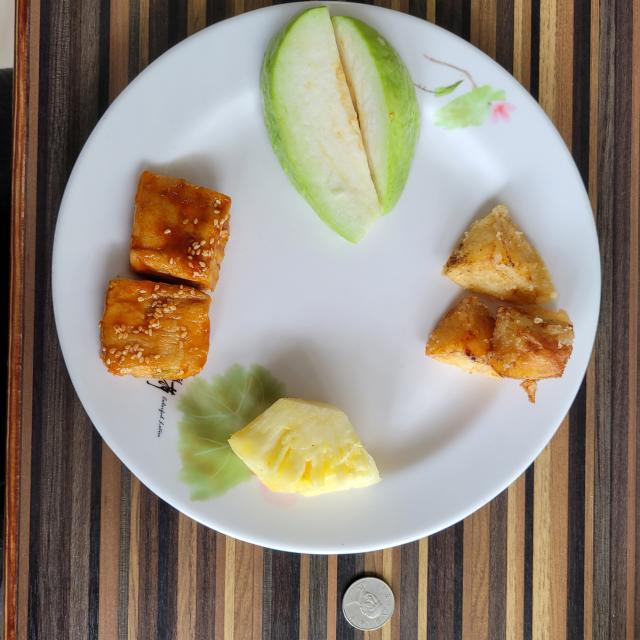coin: (342, 578, 395, 630)
creamy tofu: (99, 171, 231, 380)
fried potato: (426, 205, 575, 402)
guava -sliced-: (260, 6, 420, 242)
pineapple: (229, 398, 380, 496)
